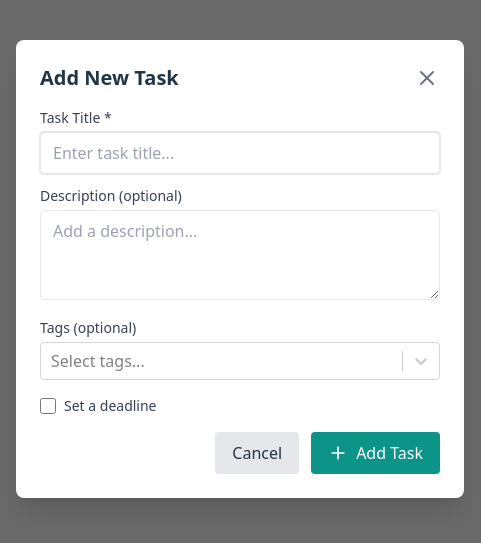
Test: Task Form Integration Tests › should not allow empty task title
The width and height of the screenshot is (481, 543).
Check: the field with test id "task-title-input" is shown, box [40, 132, 440, 174]
Click the button with test id "submit-button" at (376, 453), box [311, 432, 440, 474]
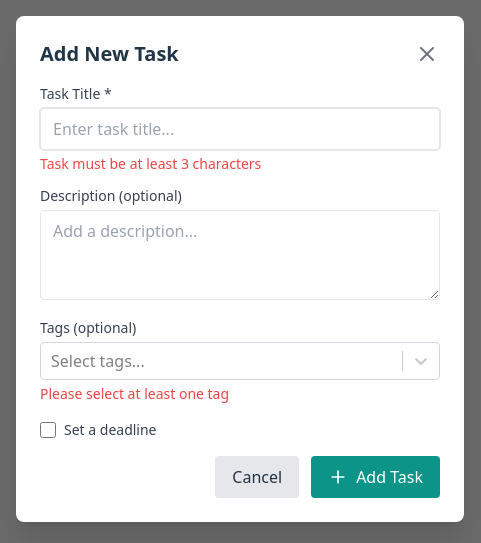
Check: the text "Task must be at least 3 characters" is shown, box [40, 154, 261, 173]
